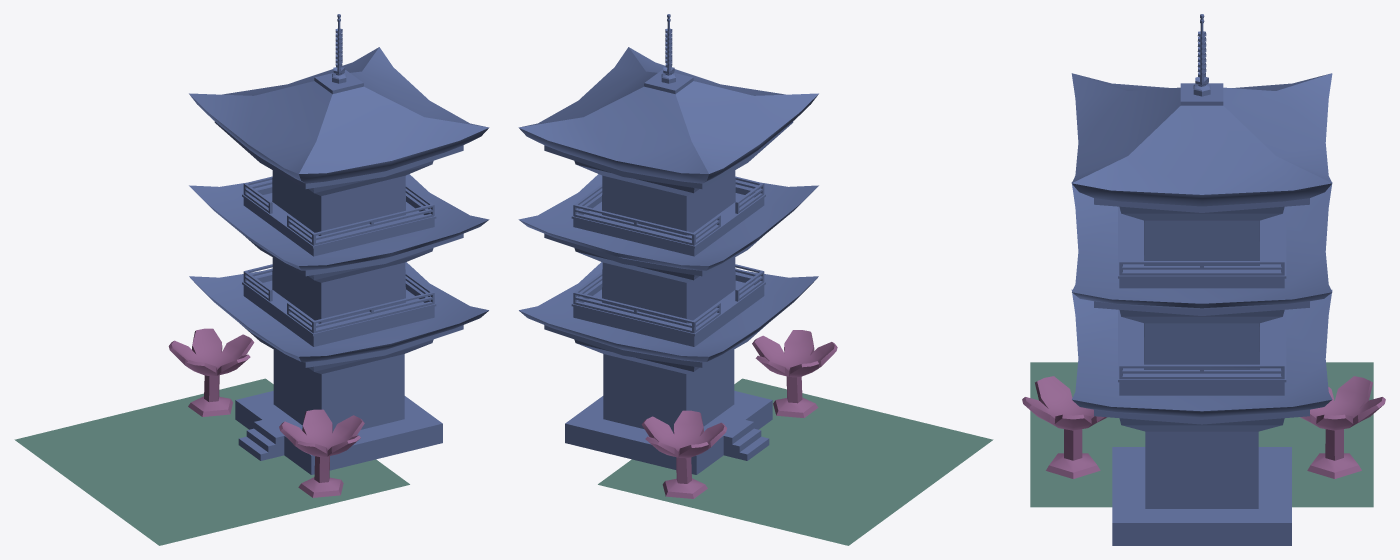
File: SM_church_west.fbx
The picture shows the model from 3 angles, left to right: view 1: azimuth 30°, elevation 25°; view 2: azimuth 150°, elevation 25°; view 3: azimuth 270°, elevation 25°; orthographic projection. The views are drawn at different scales.
Parts seen in each view (by area): view 1: SM_church_west; view 2: SM_church_west; view 3: SM_church_west.
Boxes of the visible parts, box(x1,y1,x2,y2) form: SM_church_west: box(14, 14, 489, 545); SM_church_west: box(518, 14, 993, 545); SM_church_west: box(1022, 14, 1385, 545).
Bounding box in the file's own units: 692 × 793 × 530.
